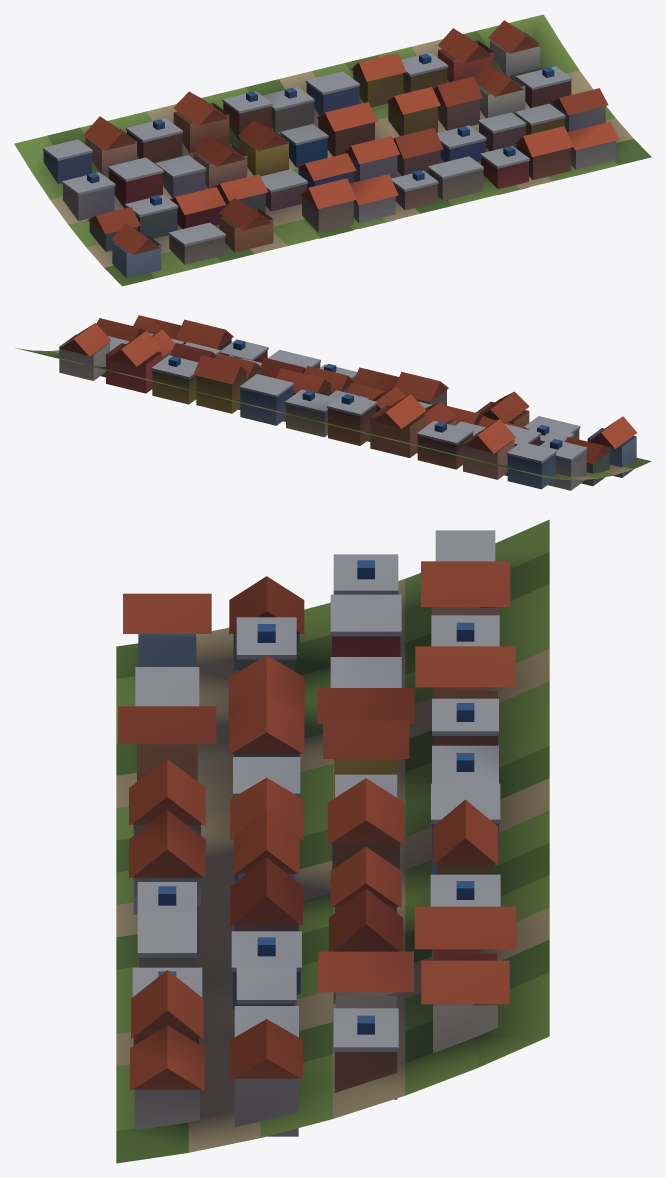
File: caracas_hillside.glb
3 renders of one model, top to bottom at view 1: azimuth 30°, elevation 25°; view 2: azimuth 150°, elevation 25°; view 3: azimuth 270°, elevation 25°, orthographic. The views are drawn at different scales.
Visible parts, largest first — view 1: houses, slope; view 2: houses, slope; view 3: houses, slope.
Part boxes in pixels (left/top/right/bottom): houses: left=43, top=20, right=619, bottom=278; slope: left=14, top=14, right=651, bottom=286; houses: left=59, top=315, right=637, bottom=490; slope: left=15, top=348, right=651, bottom=480; houses: left=118, top=530, right=516, bottom=1136; slope: left=116, top=519, right=549, bottom=1163.
Bounding box in the file's own units: 96 × 14.9 × 34.
